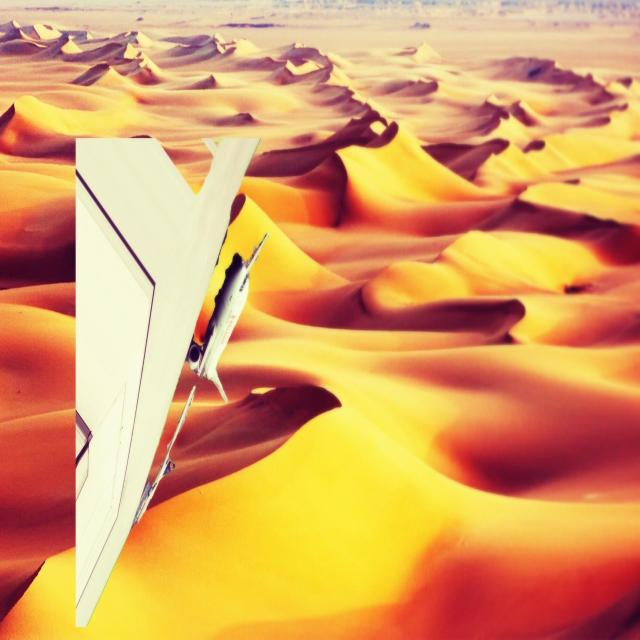airplane: (132, 231, 271, 529)
